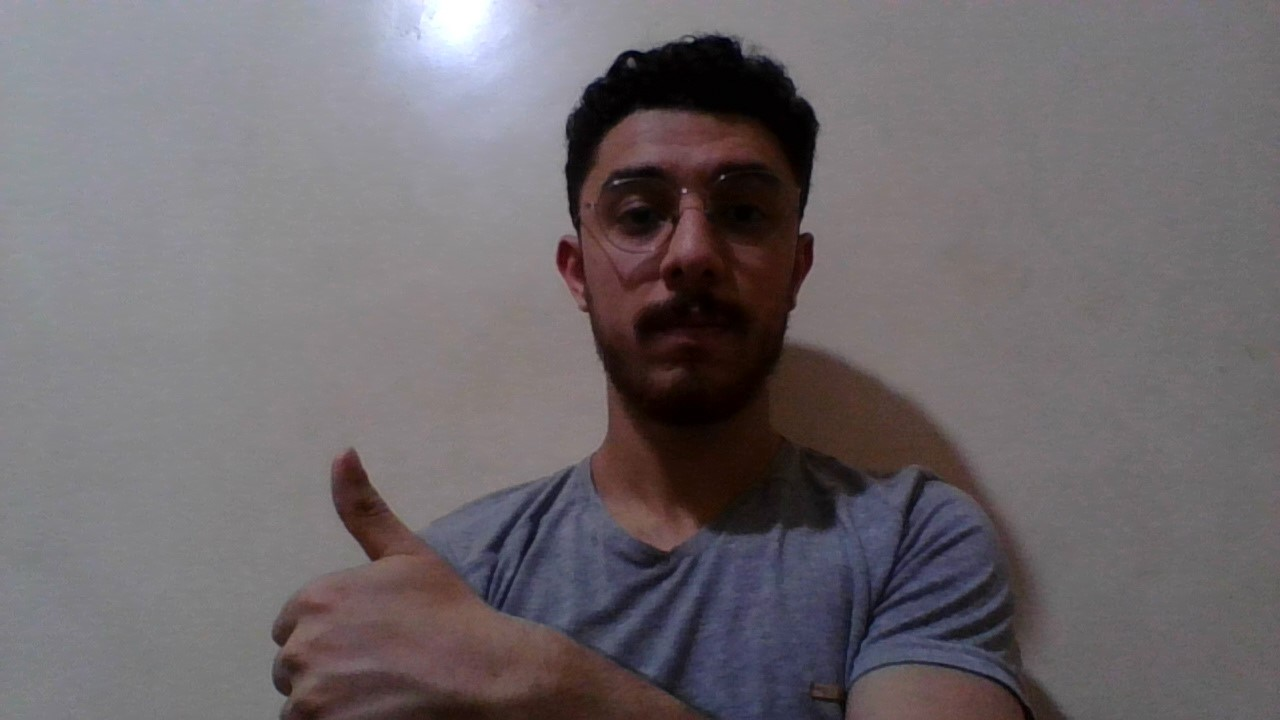Yes: (223, 446, 586, 720)
